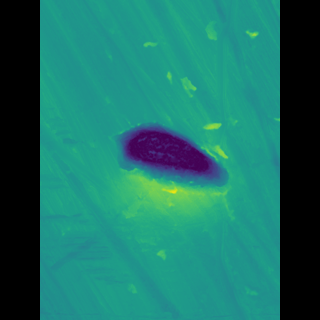Loch: (198, 0, 228, 320), (118, 114, 218, 202)
